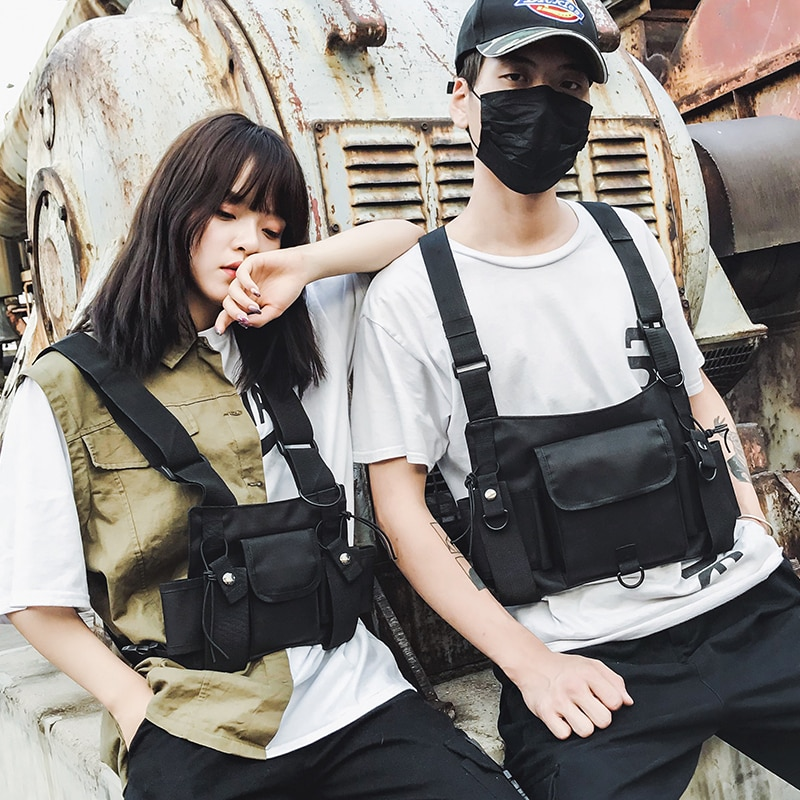Accessories|Hats: (455, 1, 609, 86)
Bottoms|Pants: (498, 568, 800, 799)
Men's Backpacks: (416, 244, 743, 592), (62, 340, 369, 668)
Tops: (1, 320, 408, 760)
Tops|T-shirts & Tanks: (352, 209, 769, 636)
